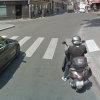Crosswalk: (15, 31, 69, 63)
